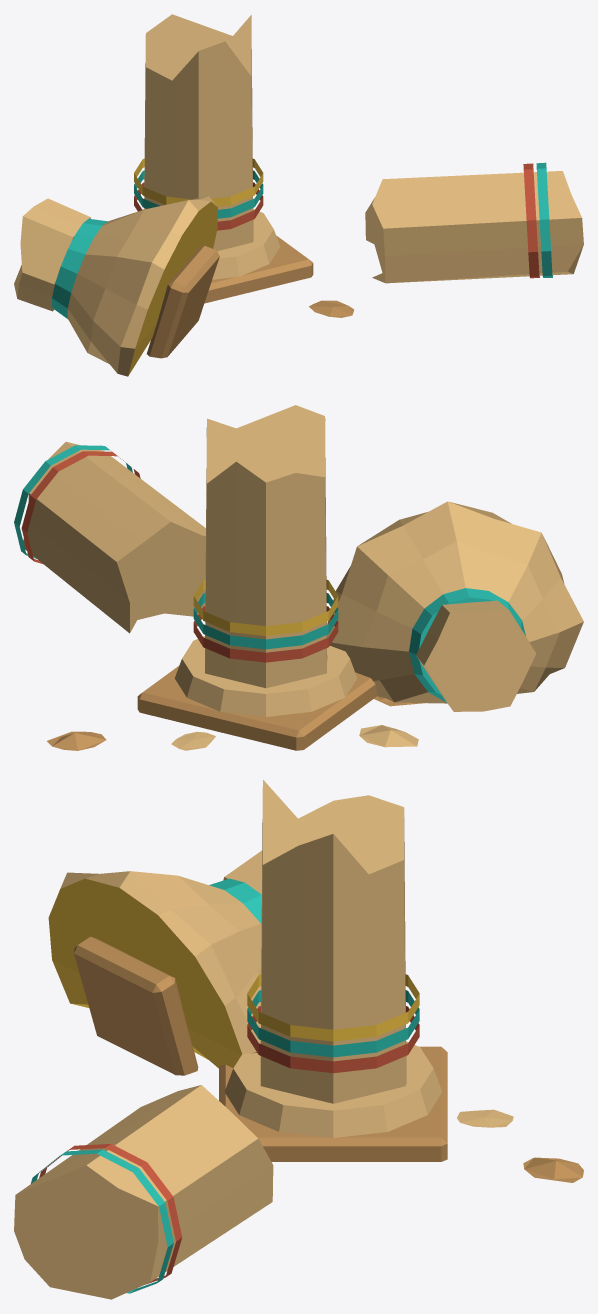
Rendered from broken_column.glb.
3 views of the same model, one above another, from view 1: azimuth 30°, elevation 25°; view 2: azimuth 150°, elevation 25°; view 3: azimuth 270°, elevation 25° (orthographic). The views are drawn at different scales.
Parts seen in each view (by area): view 1: broken_column; view 2: broken_column; view 3: broken_column.
Boxes of the visible parts, <box> form: broken_column: <box>14,14,583,376</box>; broken_column: <box>14,405,583,750</box>; broken_column: <box>14,780,583,1299</box>.
Size of the model in its own units: 3.51 by 1.63 by 2.62.
